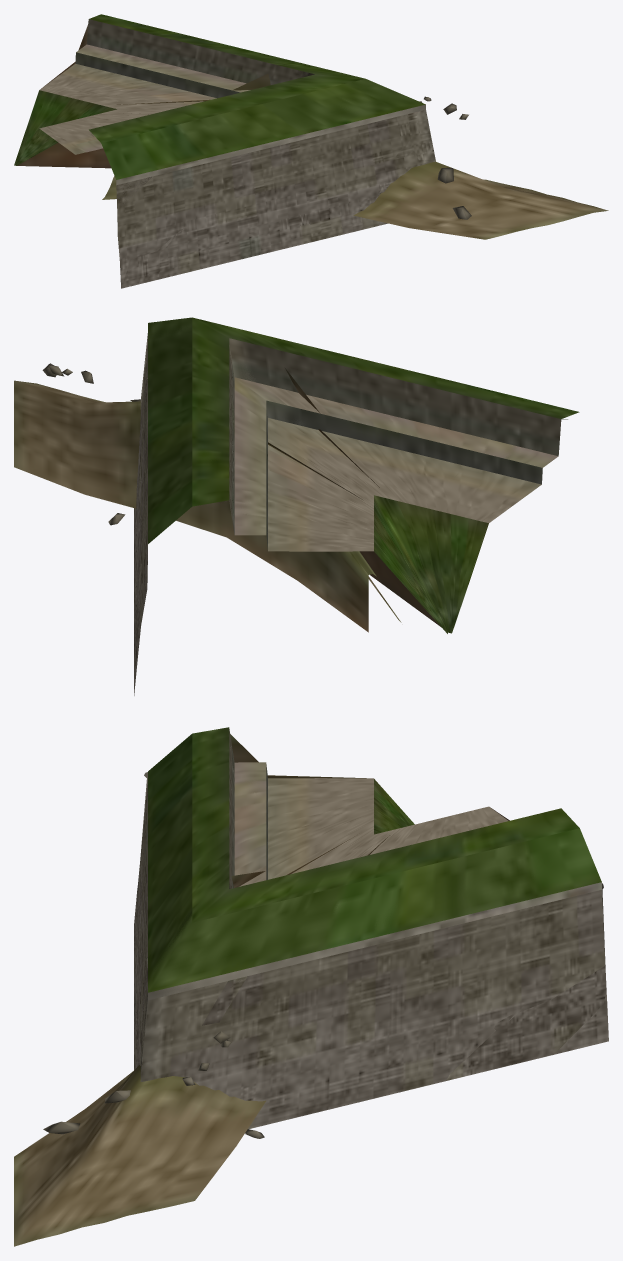
The model's file is starfort_bastion_salient_live.glb.
3 renders of one model, top to bottom at view 1: azimuth 30°, elevation 25°; view 2: azimuth 150°, elevation 25°; view 3: azimuth 270°, elevation 25°, orthographic. The views are drawn at different scales.
Parts seen in each view (by area): view 1: intact, breached, cracked; view 2: intact, breached, cracked; view 3: intact, breached, cracked, endcap_a.
Part boxes in pixels (bbox=[...]): intact: bbox=[14, 14, 435, 279]; breached: bbox=[15, 15, 608, 288]; cracked: bbox=[14, 15, 435, 288]; intact: bbox=[134, 317, 579, 675]; breached: bbox=[14, 343, 575, 695]; cracked: bbox=[108, 318, 578, 670]; intact: bbox=[134, 727, 605, 1129]; breached: bbox=[14, 728, 608, 1246]; cracked: bbox=[134, 728, 606, 1138]; endcap_a: bbox=[140, 734, 366, 857].
Size of what is drawn, in the model's own units: 21.45 by 6.25 by 16.86.
Materials: 1 (1 with a texture image).
